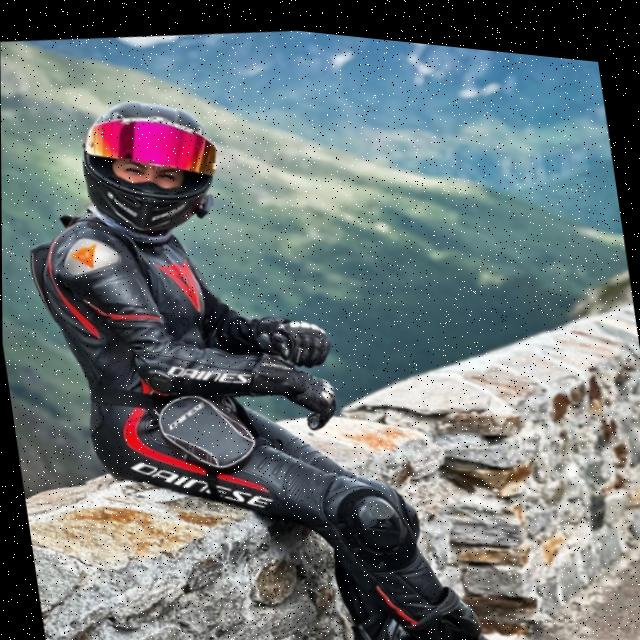helmet: (67, 76, 235, 249)
